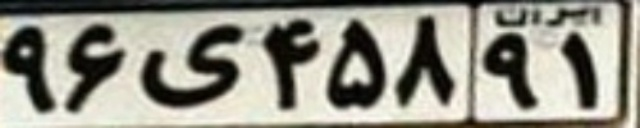1: (556, 31, 599, 109)
4: (257, 19, 320, 108)
5: (325, 18, 387, 108)
6: (58, 22, 124, 113)
8: (394, 14, 458, 106)
9: (480, 29, 540, 108), (0, 22, 53, 111)
ye: (138, 24, 242, 107)
